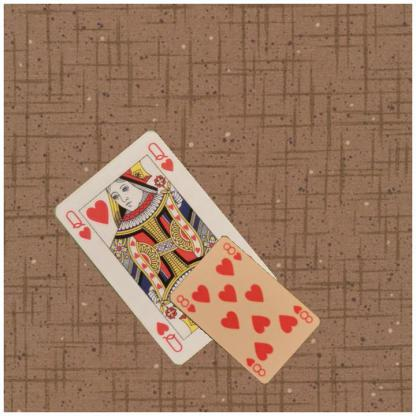8h: (290, 302, 314, 325), (173, 292, 196, 314)
Qh: (63, 207, 92, 241)
